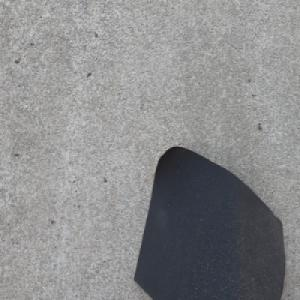PaintChip: (133, 145, 286, 300)
